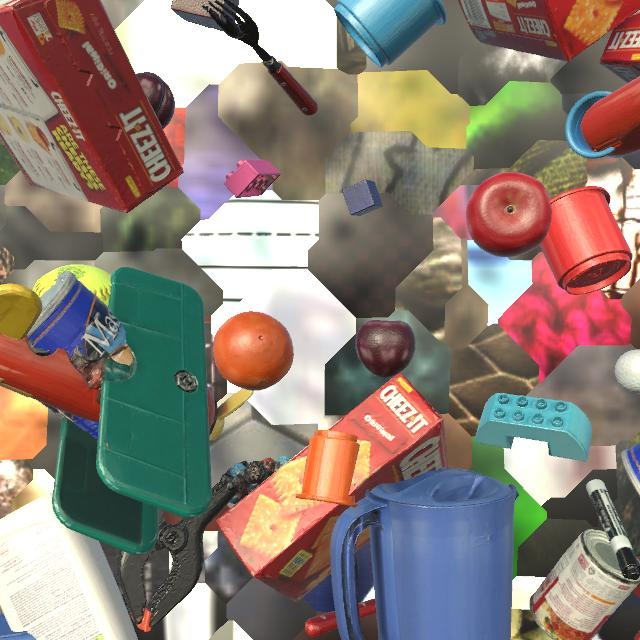ycb_002_master_chef_can: (27, 271, 133, 440), (621, 443, 640, 496)
ycb_003_cracker_box: (216, 373, 449, 602), (0, 0, 184, 213), (458, 0, 640, 62), (599, 10, 640, 83)
ycb_005_tomato_soup_can: (529, 529, 640, 640)
ycb_013_apple: (466, 172, 552, 257)
ycb_017_orange: (213, 311, 294, 391)
ycb_018_plum: (355, 320, 416, 378), (136, 72, 175, 129)
